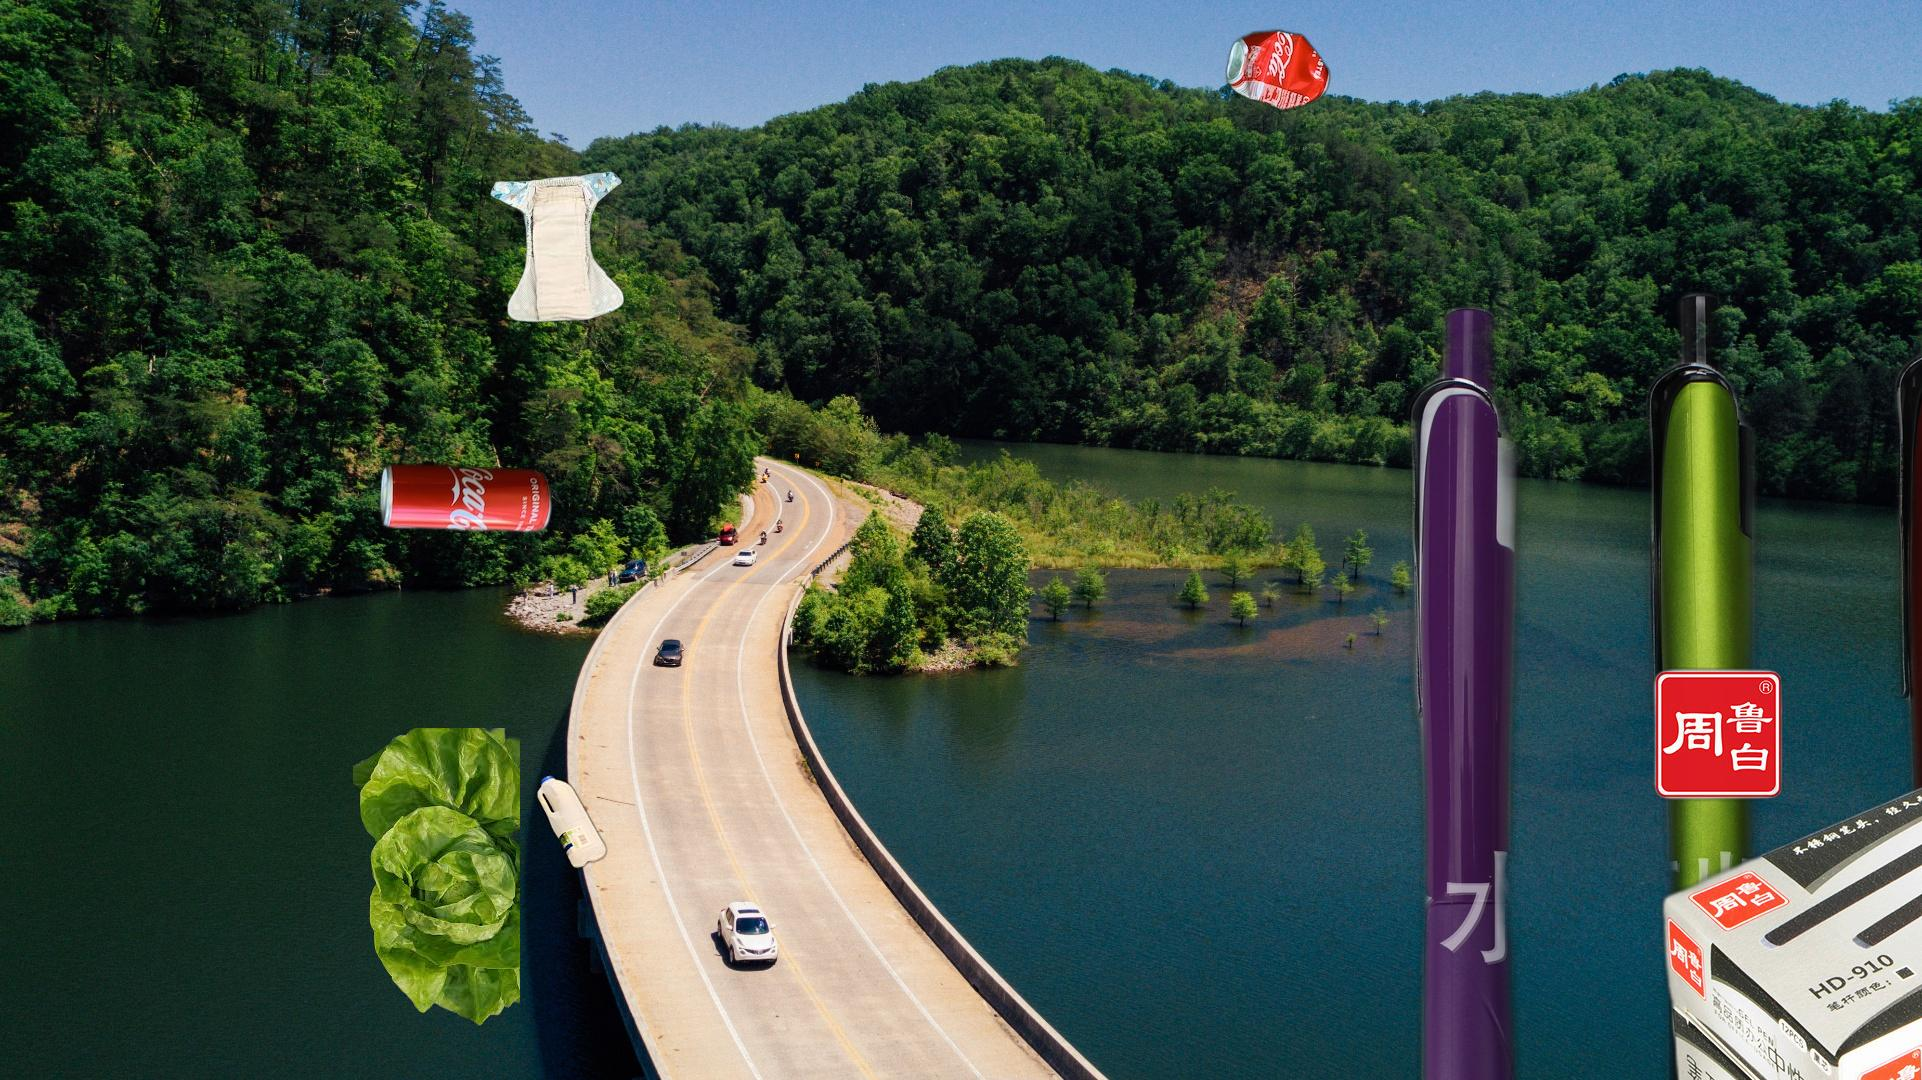biological: (353, 728, 520, 1030)
metal-cans: (374, 457, 556, 538), (1831, 951, 1922, 1073), (1222, 25, 1335, 116)
penholder: (1395, 265, 1922, 1080), (1638, 656, 1922, 1080)
plastic-bottles: (532, 769, 611, 874)
trash: (487, 169, 627, 325)
